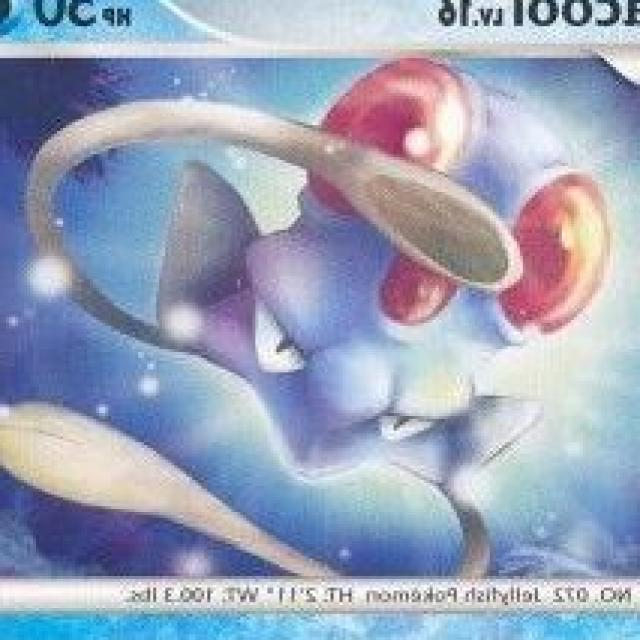Tentacool: (0, 56, 626, 566)
